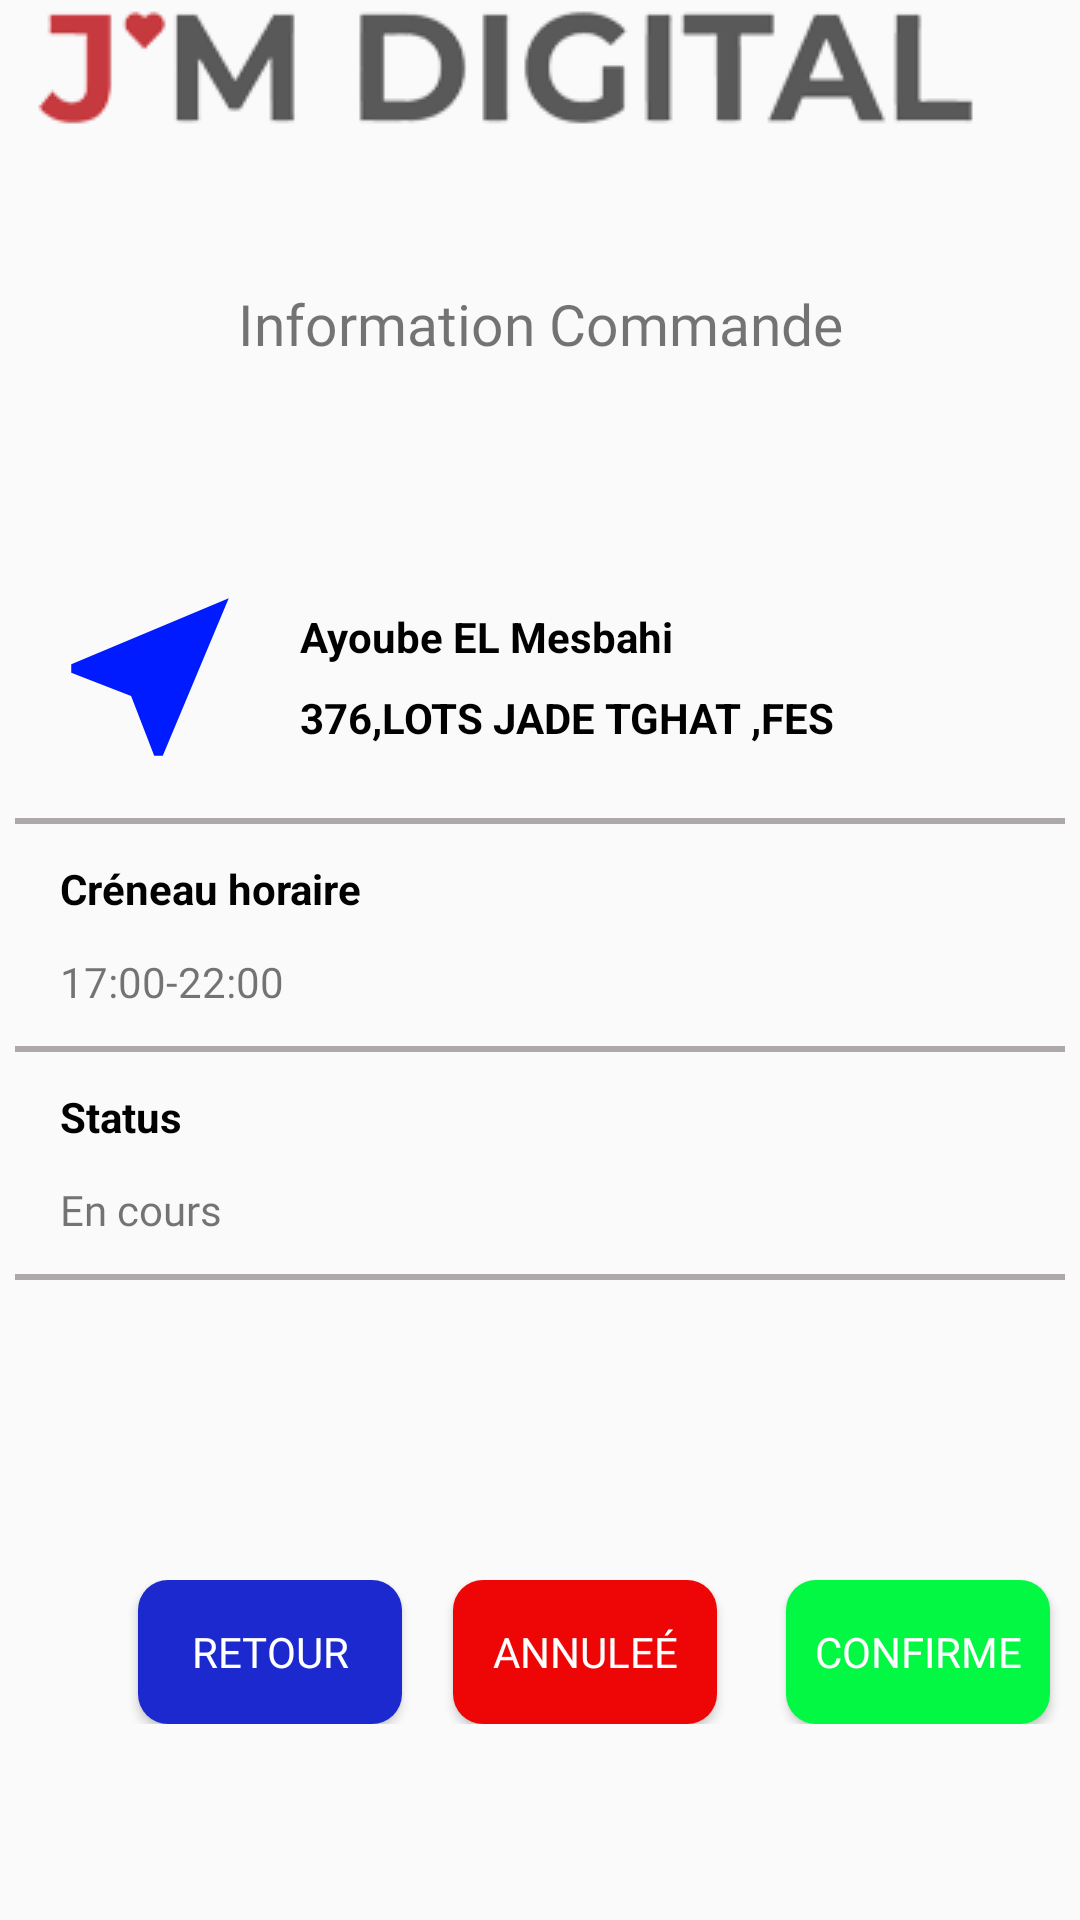

Locate icon controls on the screen. Image size 1080*1920, boxes as (x1, y1, x2, y2).
near me: (71, 598, 229, 756)
